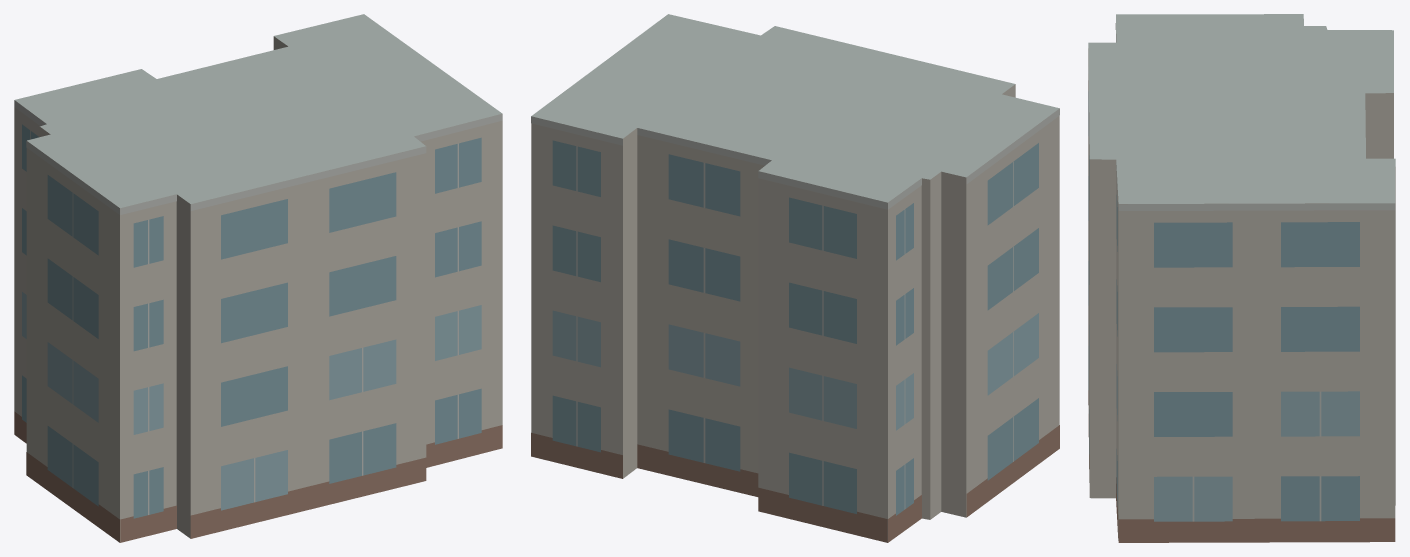
The model's file is survey-upis-32878923.glb.
The picture shows the model from 3 angles, left to right: view 1: azimuth 30°, elevation 25°; view 2: azimuth 150°, elevation 25°; view 3: azimuth 270°, elevation 25°; orthographic projection.
Visible parts, largest first — view 1: survey-upis-32878923.tmp; view 2: survey-upis-32878923.tmp; view 3: survey-upis-32878923.tmp.
Boxes of the visible parts, x1,y1,x2,y2 form: survey-upis-32878923.tmp: (14,14,502,542); survey-upis-32878923.tmp: (531,14,1059,542); survey-upis-32878923.tmp: (1088,14,1395,542).
Bounding box in the file's own units: 14.09 × 11.7 × 9.62.
